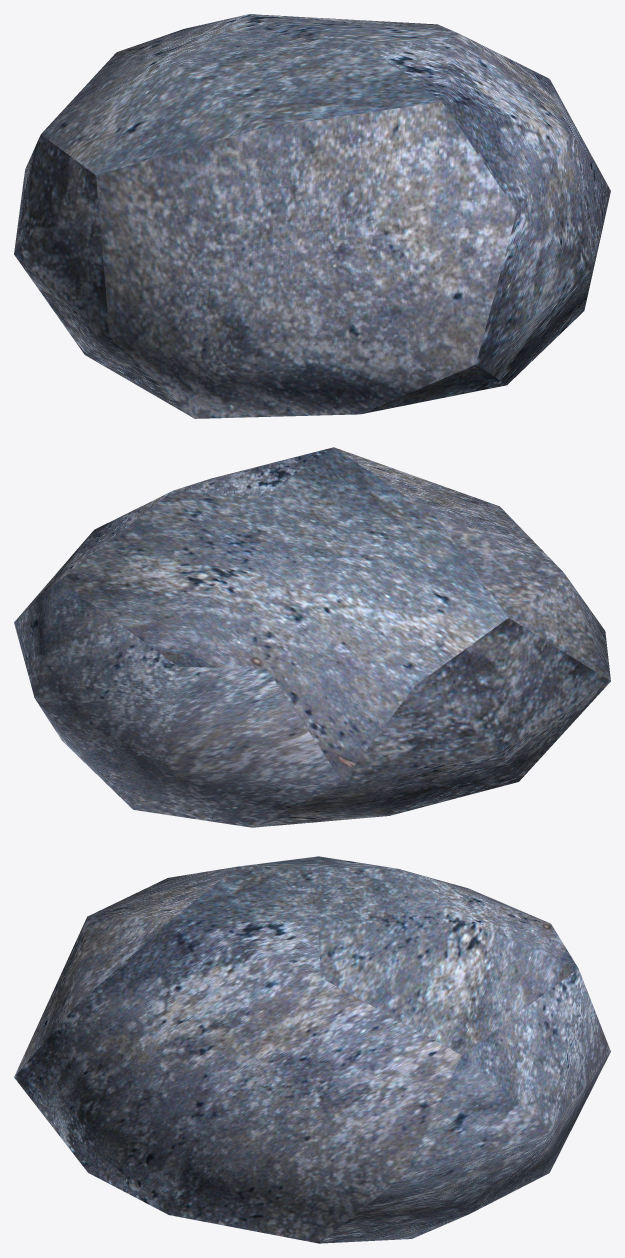
File: BlueRock.obj
The picture shows the model from 3 angles, top to bottom: view 1: azimuth 30°, elevation 25°; view 2: azimuth 150°, elevation 25°; view 3: azimuth 270°, elevation 25°; orthographic projection. The views are drawn at different scales.
Visible parts, largest first — view 1: Icosphere; view 2: Icosphere; view 3: Icosphere.
Part boxes in pixels (x1,y1,x2,y2): Icosphere: (14, 14, 610, 418); Icosphere: (14, 447, 610, 827); Icosphere: (14, 856, 610, 1243).
Size of the model in its own units: 3.05 by 1.62 by 3.04.
Materials: 1 (1 with a texture image).
